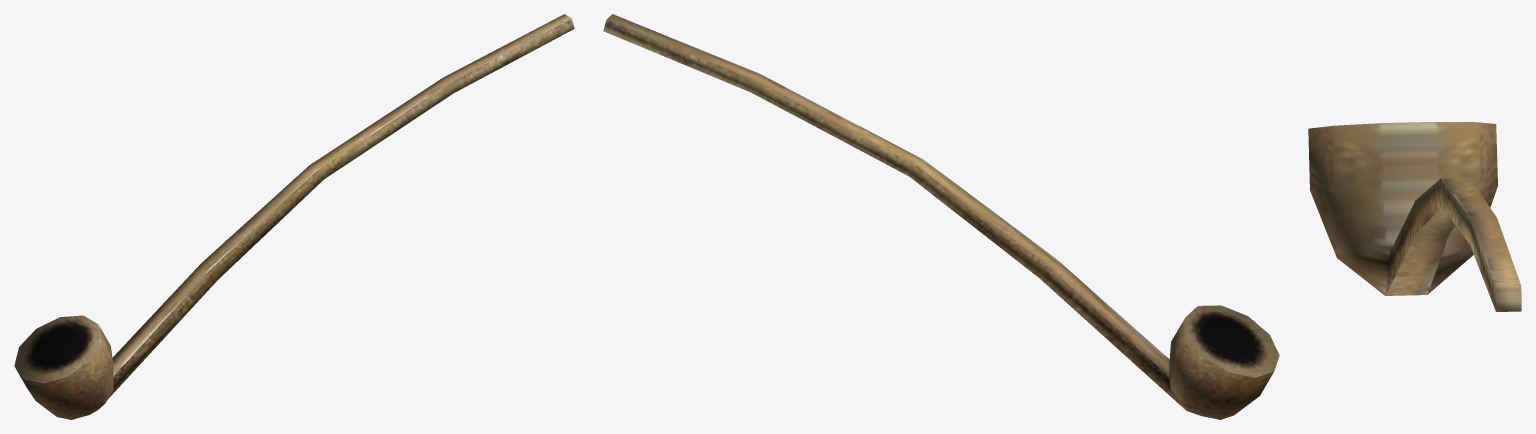
File: STATIC_IT_GANDALFPIPE.glb
3 views of the same model, side by side, from view 1: azimuth 30°, elevation 25°; view 2: azimuth 150°, elevation 25°; view 3: azimuth 270°, elevation 25° (orthographic). The views are drawn at different scales.
Parts seen in each view (by area): view 1: Mesh; view 2: Mesh; view 3: Mesh.
Part boxes in pixels (box(x1,y1,x2,y2)): Mesh: box(14, 14, 574, 419); Mesh: box(603, 14, 1279, 419); Mesh: box(1308, 122, 1521, 311).
Bounding box in the file's own units: 0.2434 × 0.1007 × 0.039.
Materials: 1 (1 with a texture image).
